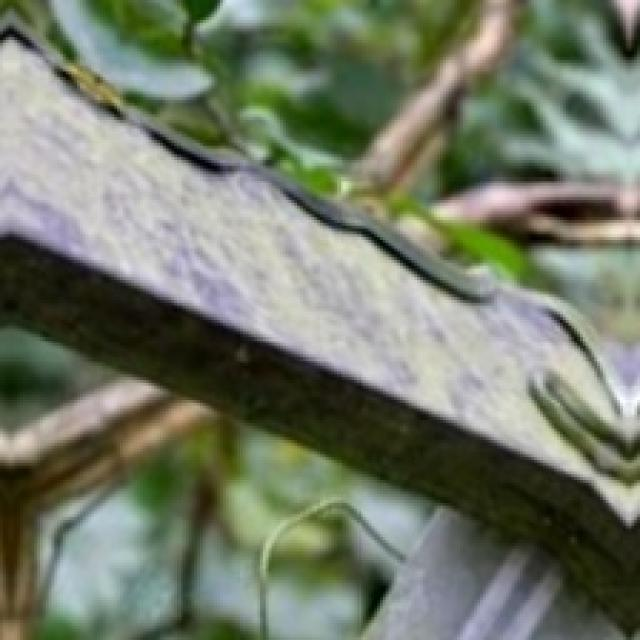paradise tree snake: (0, 23, 637, 629)
